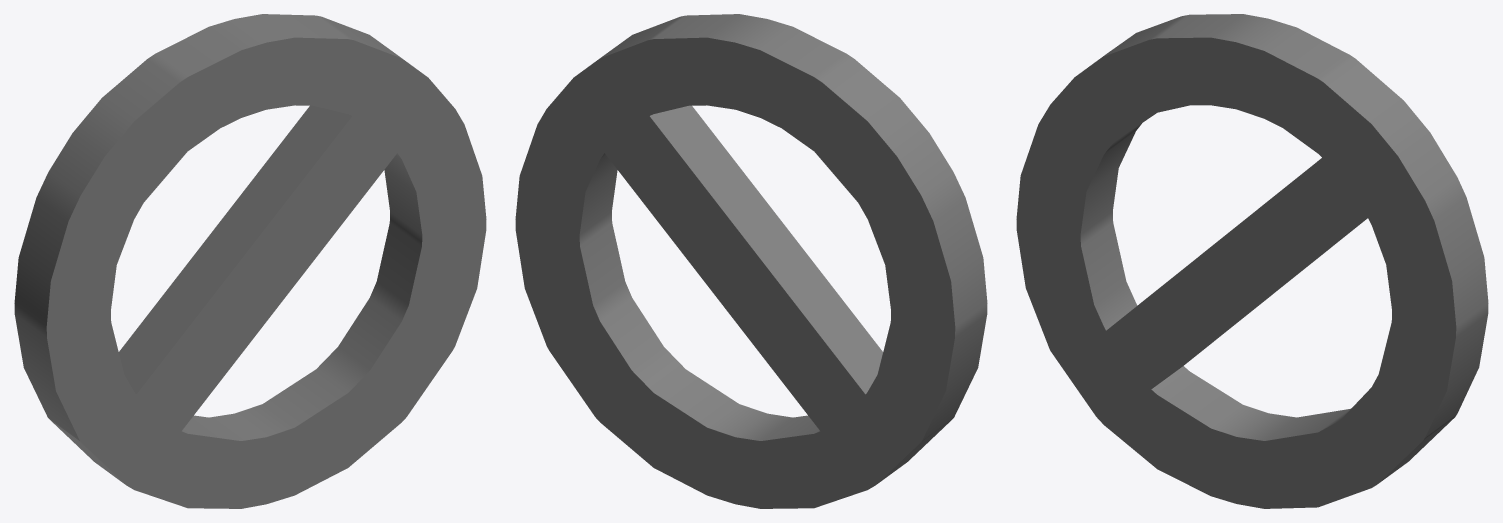
File: fa-ban.obj
The picture shows the model from 3 angles, left to right: view 1: azimuth 30°, elevation 25°; view 2: azimuth 150°, elevation 25°; view 3: azimuth 330°, elevation 25°; orthographic projection.
Size of the model in its own units: 0.907 by 0.91 by 0.1152.
1 material, 1 textured.
